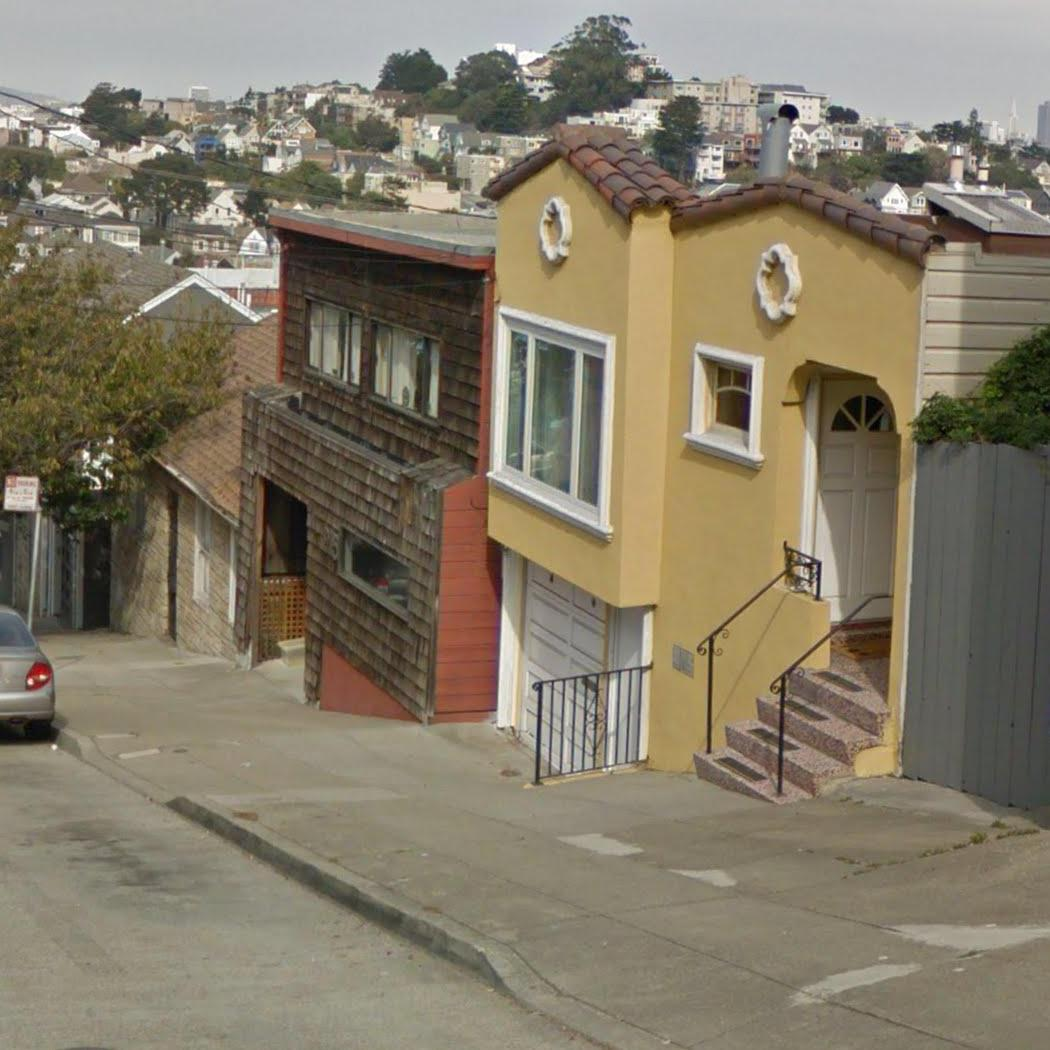No Parking: (1, 473, 42, 515)
